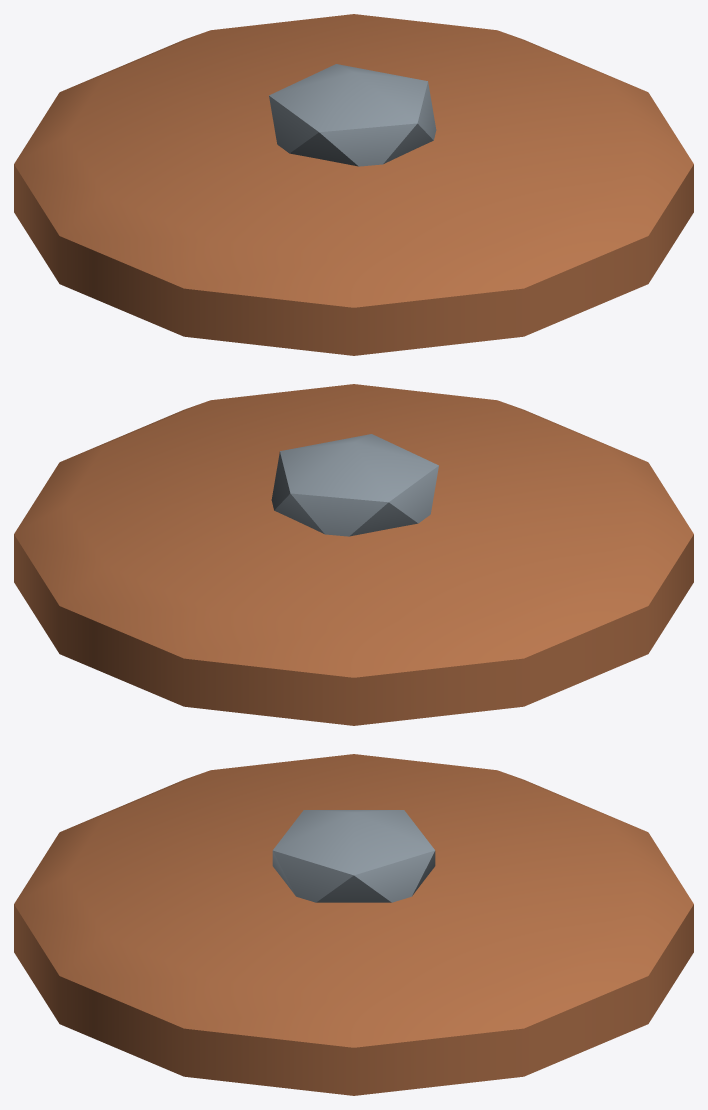
The model's file is ruins-pc-hub.glb.
3 renders of one model, top to bottom at view 1: azimuth 30°, elevation 25°; view 2: azimuth 150°, elevation 25°; view 3: azimuth 270°, elevation 25°, orthographic.
Parts seen in each view (by area): view 1: 0_ruins_pc_hub; view 2: 0_ruins_pc_hub; view 3: 0_ruins_pc_hub.
Boxes of the visible parts, box(x1,y1,x2,y2) form: 0_ruins_pc_hub: box(14, 14, 693, 355); 0_ruins_pc_hub: box(14, 384, 693, 725); 0_ruins_pc_hub: box(14, 754, 693, 1095).
Bounding box in the file's own units: 0.128 × 0.029 × 0.128.
